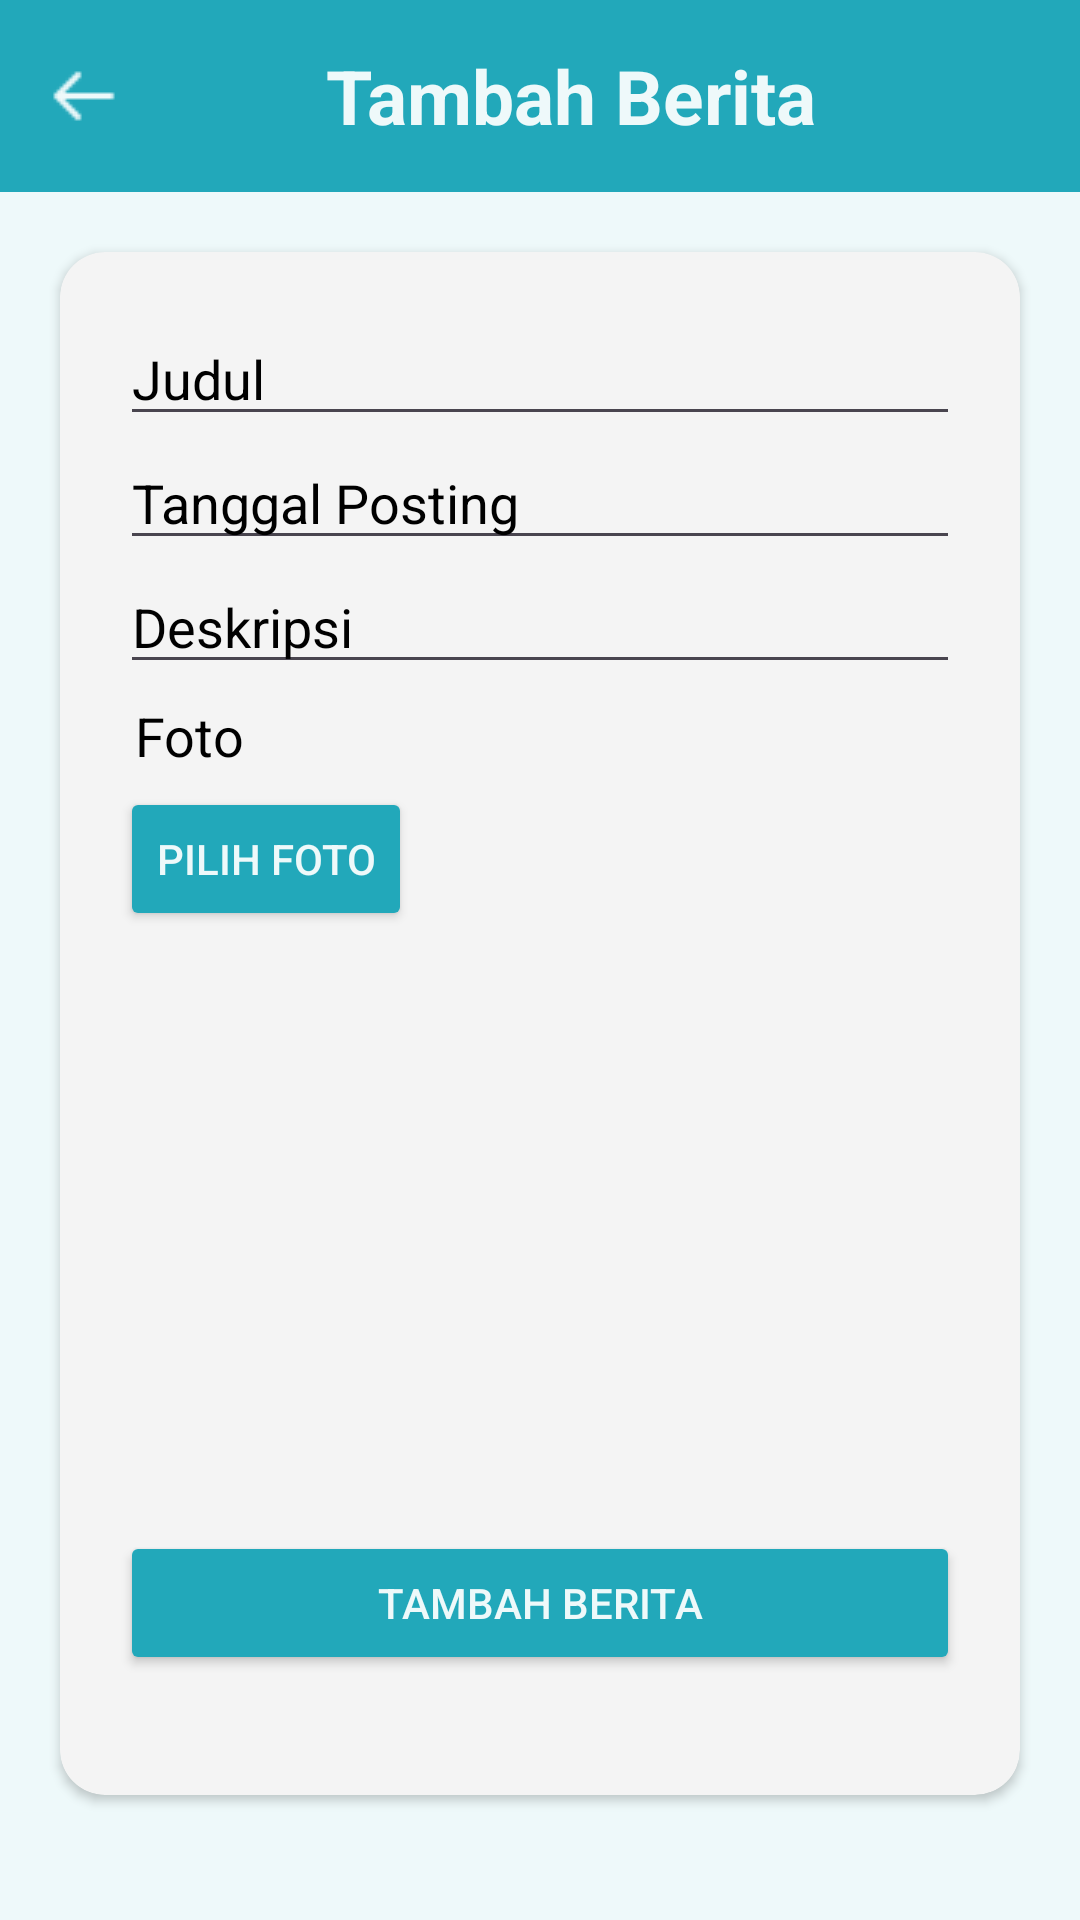

Icons on this 1080w x 1920h Android screen, each with the point to tap as point (x, y):
back: point (84, 96)
